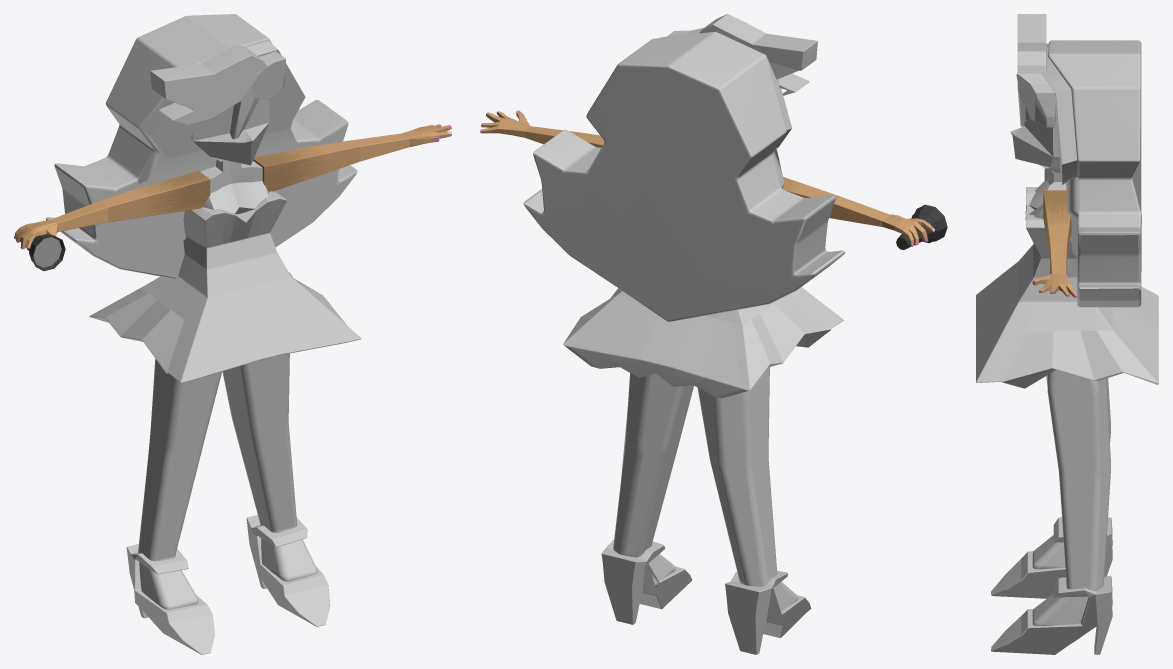
File: BrittneyFinal.fbx
The picture shows the model from 3 angles, left to right: view 1: azimuth 30°, elevation 25°; view 2: azimuth 150°, elevation 25°; view 3: azimuth 270°, elevation 25°; orthographic projection. The views are drawn at different scales.
Visible parts, largest first — view 1: Hair, Dress, Leg1, Leg2, Bangs, Armw_FL, Arm, Shoe2, Shoe, Face, Neck, Flashlight; view 2: Hair, Dress, Leg1, Leg2, Shoe2, Shoe, Bangs, Armw_FL, Arm, Flashlight; view 3: Hair, Dress, Leg2, Shoe2, Bangs, Shoe, Arm, Face, Leg1, Neck.
Part boxes in pixels (bbox=[...]): Hair: bbox=[45, 14, 357, 278]; Dress: bbox=[89, 191, 361, 383]; Leg1: bbox=[138, 359, 221, 609]; Leg2: bbox=[222, 353, 317, 581]; Bangs: bbox=[150, 45, 285, 139]; Armw_FL: bbox=[14, 170, 210, 249]; Arm: bbox=[253, 124, 451, 191]; Shoe2: bbox=[246, 515, 330, 626]; Shoe: bbox=[126, 544, 214, 654]; Face: bbox=[191, 98, 269, 165]; Neck: bbox=[200, 160, 268, 214]; Flashlight: bbox=[20, 233, 65, 270]; Hair: bbox=[523, 32, 844, 321]; Dress: bbox=[563, 287, 843, 398]; Leg1: bbox=[697, 367, 798, 610]; Leg2: bbox=[613, 373, 693, 587]; Shoe2: bbox=[601, 540, 692, 624]; Shoe: bbox=[725, 571, 811, 654]; Bangs: bbox=[666, 14, 817, 95]; Armw_FL: bbox=[782, 177, 934, 246]; Arm: bbox=[480, 110, 604, 147]; Flashlight: bbox=[896, 204, 947, 249]; Hair: bbox=[1041, 40, 1141, 307]; Dress: bbox=[976, 187, 1158, 388]; Leg2: bbox=[1032, 370, 1110, 625]; Shoe2: bbox=[991, 575, 1112, 654]; Bangs: bbox=[1016, 14, 1056, 127]; Shoe: bbox=[991, 517, 1112, 598]; Arm: bbox=[1032, 190, 1077, 297]; Face: bbox=[1010, 101, 1060, 172]; Leg1: bbox=[1032, 378, 1110, 569]; Neck: bbox=[1029, 169, 1066, 218].
Size of the model in its own units: 133 by 169 by 48.96.
